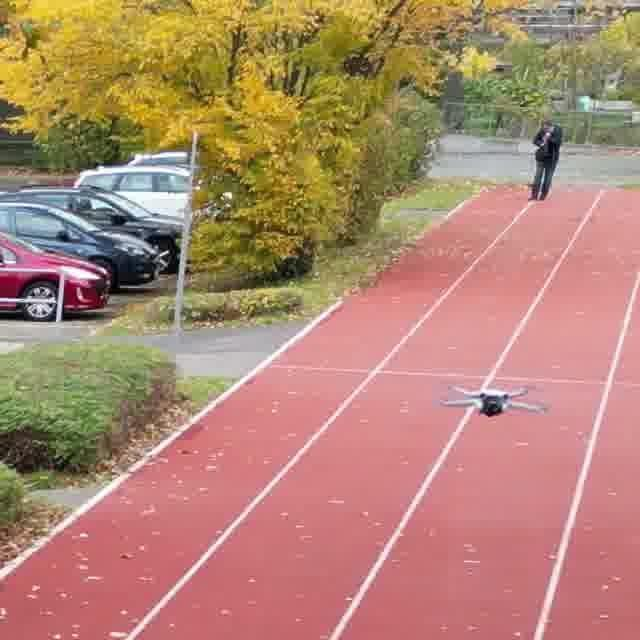Drohne: (440, 387, 547, 416)
